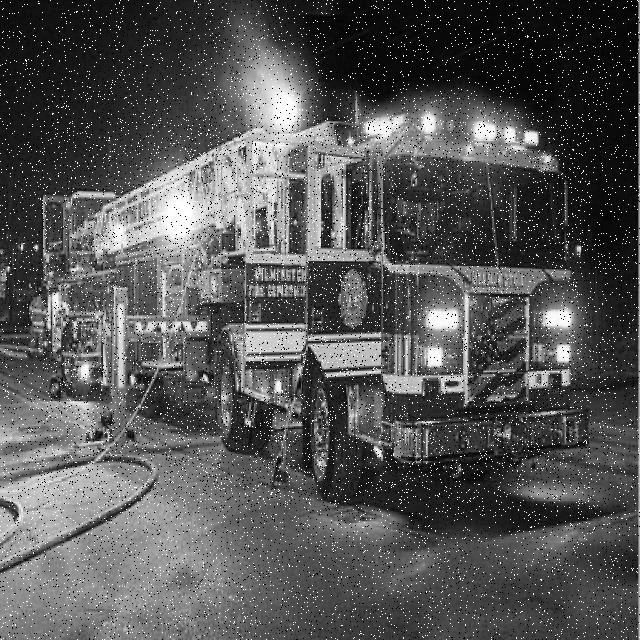Fire Truck: (42, 116, 591, 505)
